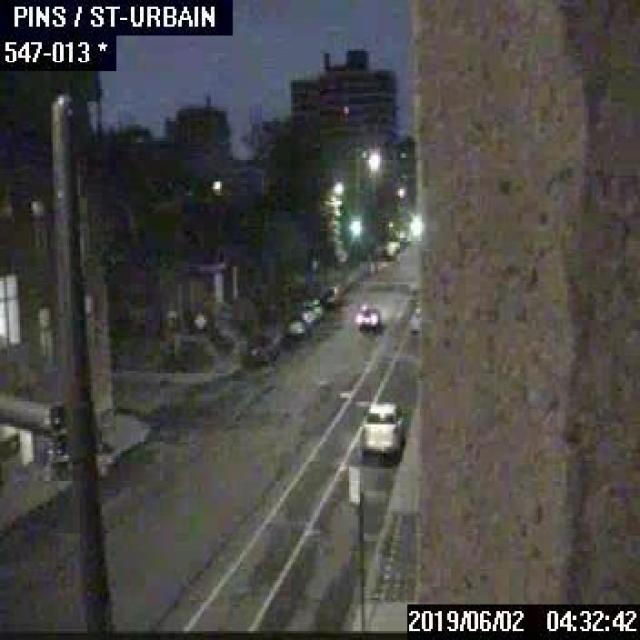vehicle: (358, 400, 404, 458), (240, 336, 271, 362), (284, 314, 309, 338), (299, 298, 322, 323), (355, 304, 378, 329), (319, 284, 340, 306), (408, 302, 420, 334)
